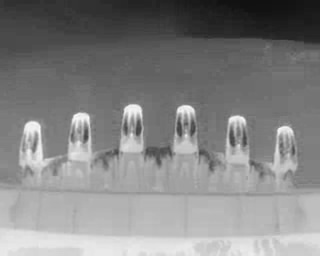claw: (66, 111, 94, 164), (175, 103, 200, 153), (273, 125, 299, 173), (227, 115, 251, 166), (18, 119, 42, 168), (121, 103, 144, 154)
